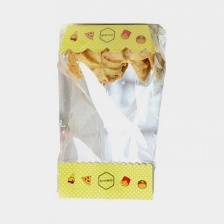snack: (47, 18, 172, 207)
